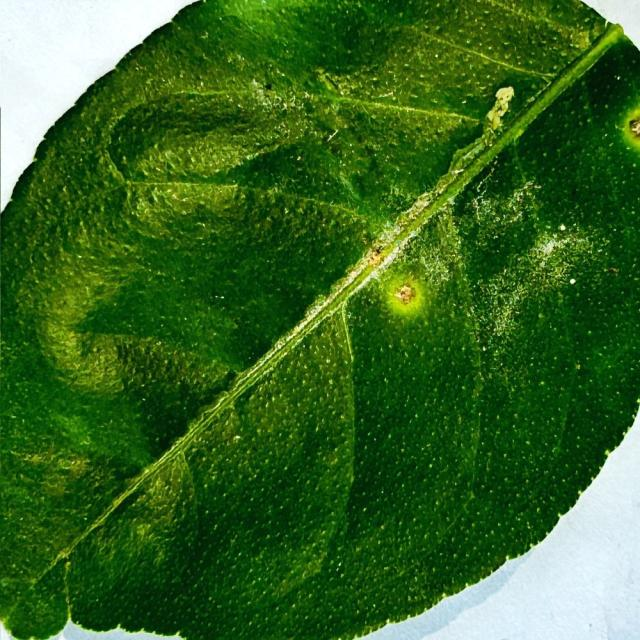Anthracnose: (377, 266, 433, 319), (619, 109, 640, 147)
Lemon: (0, 0, 639, 639)
